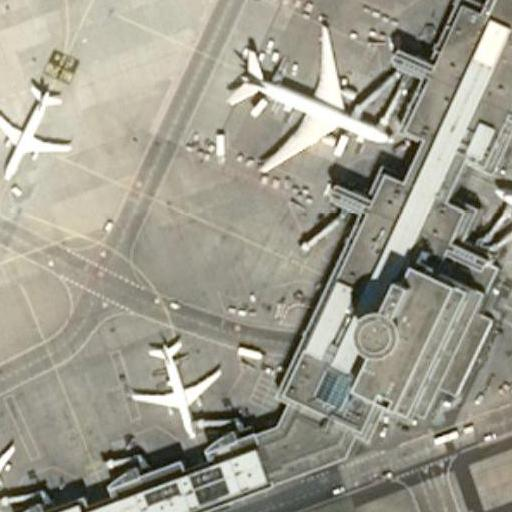Aircraft: (221, 21, 402, 177), (224, 18, 391, 175), (122, 334, 228, 441), (126, 332, 222, 441), (0, 72, 75, 185), (0, 75, 74, 182), (489, 154, 512, 323), (490, 148, 512, 318), (0, 418, 19, 512), (0, 419, 19, 512)
